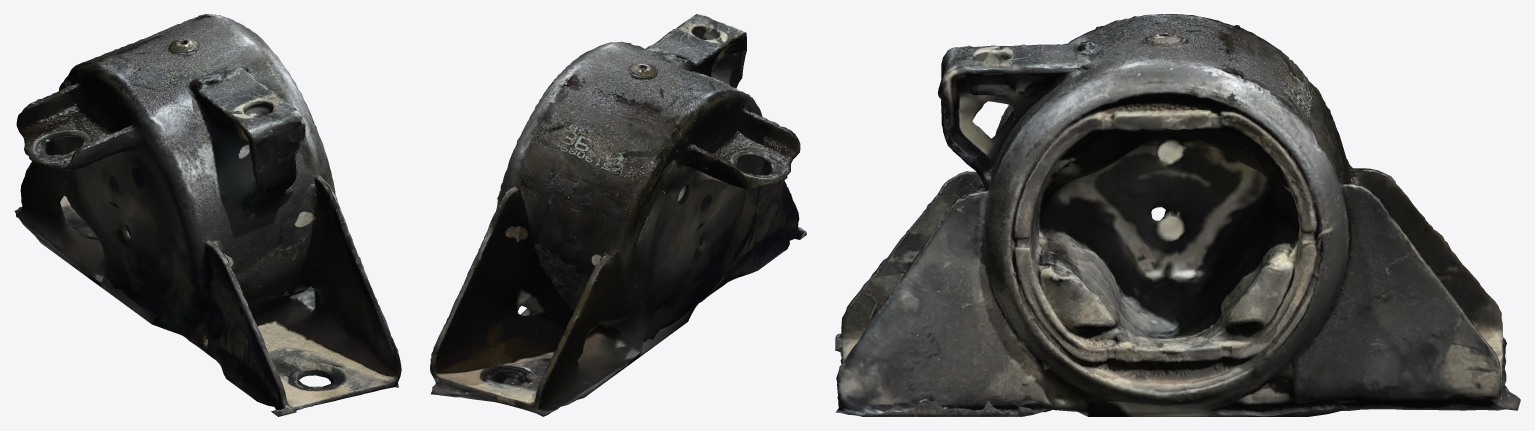
File: caja-bake.glb
3 renders of one model, left to right at view 1: azimuth 30°, elevation 25°; view 2: azimuth 150°, elevation 25°; view 3: azimuth 270°, elevation 25°, orthographic. The views are drawn at different scales.
Visible parts, largest first — view 1: Mesh_0; view 2: Mesh_0; view 3: Mesh_0.
Part boxes in pixels (box(x1,y1,x2,y2)): Mesh_0: box(14, 14, 401, 416); Mesh_0: box(430, 14, 806, 416); Mesh_0: box(835, 14, 1520, 416).
Size of the model in its own units: 0.5381 by 0.5276 by 0.9858.
1 material, 1 textured.
